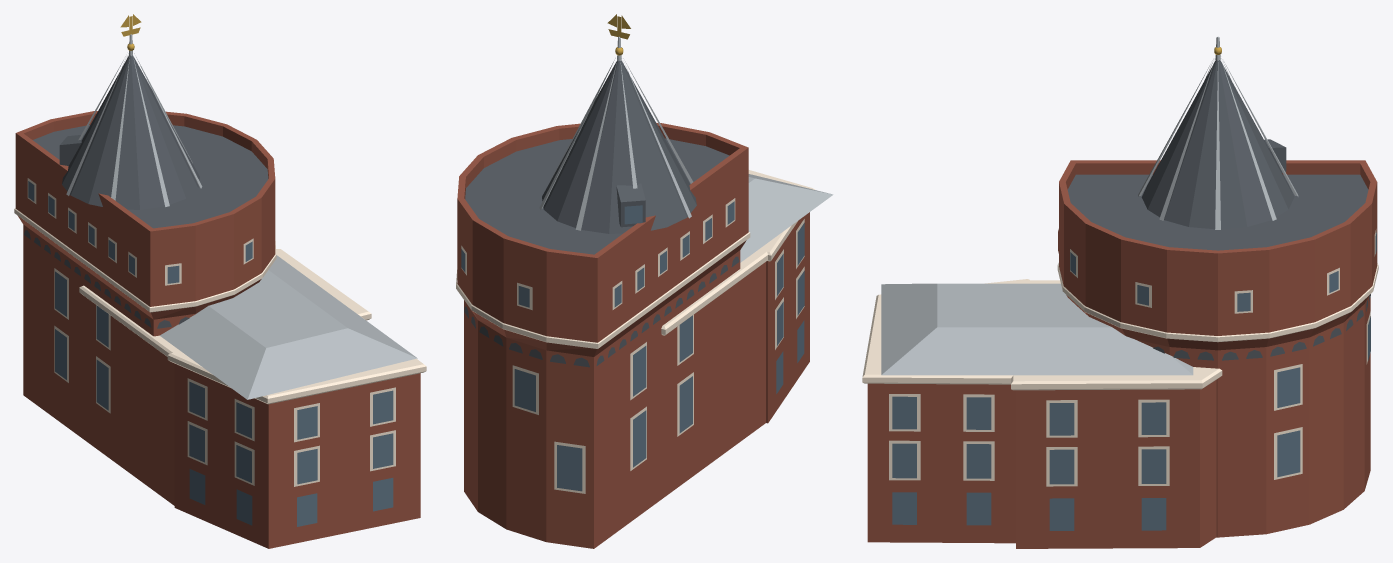
The model's file is amsterdam-schreierstoren.glb.
3 renders of one model, left to right at view 1: azimuth 30°, elevation 25°; view 2: azimuth 150°, elevation 25°; view 3: azimuth 270°, elevation 25°, orthographic. The views are drawn at different scales.
Parts seen in each view (by area): view 1: Schreierstoren; view 2: Schreierstoren; view 3: Schreierstoren.
Boxes of the visible parts, x1=… form: Schreierstoren: x1=14, y1=14, x2=426, y2=548; Schreierstoren: x1=456, y1=14, x2=833, y2=548; Schreierstoren: x1=862, y1=36, x2=1378, y2=548.
Size of the model in its own units: 11.79 by 22.5 by 22.98.
